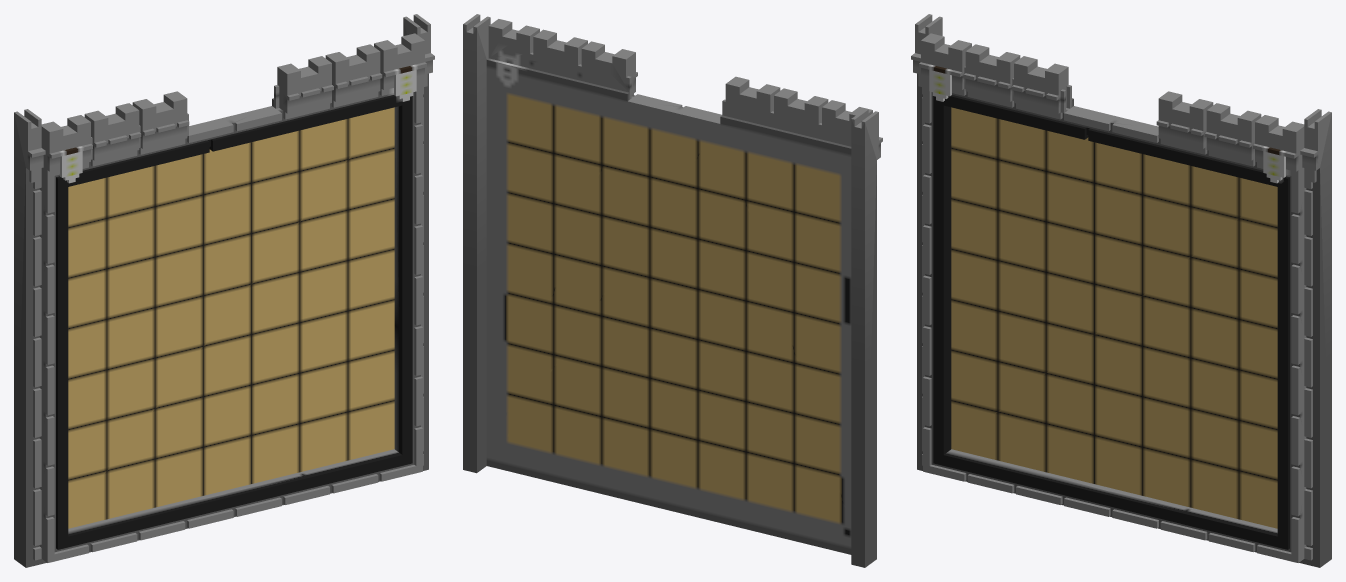
File: 7x7 Board.fbx
3 views of the same model, side by side, from view 1: azimuth 30°, elevation 25°; view 2: azimuth 150°, elevation 25°; view 3: azimuth 330°, elevation 25° (orthographic).
Parts seen in each view (by area): view 1: 7x7_Board.Merged; view 2: 7x7_Board.Merged; view 3: 7x7_Board.Merged.
Boxes of the visible parts, x1,y1,x2,y2 form: 7x7_Board.Merged: (14, 14, 434, 567); 7x7_Board.Merged: (463, 14, 882, 567); 7x7_Board.Merged: (911, 14, 1331, 567).
Size of the model in its own units: 23400 by 24800 by 2400.
